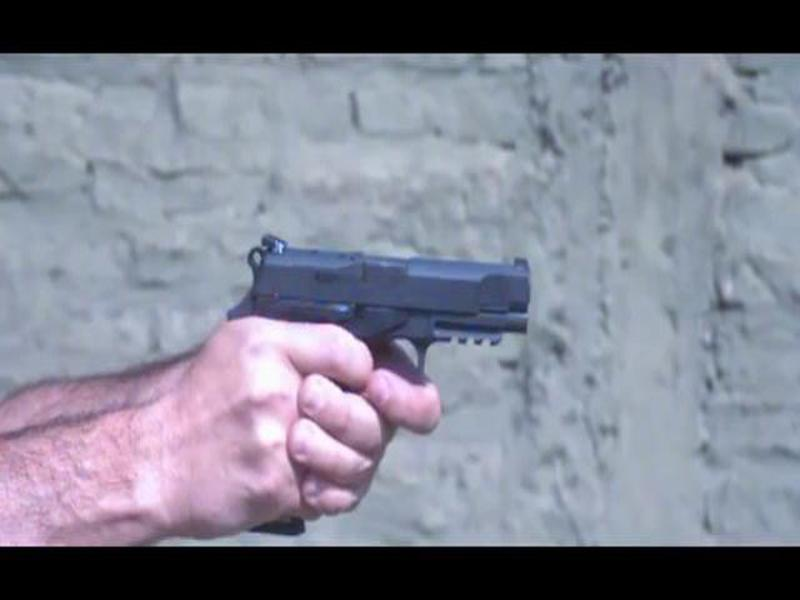Pistola: (207, 220, 552, 385)
